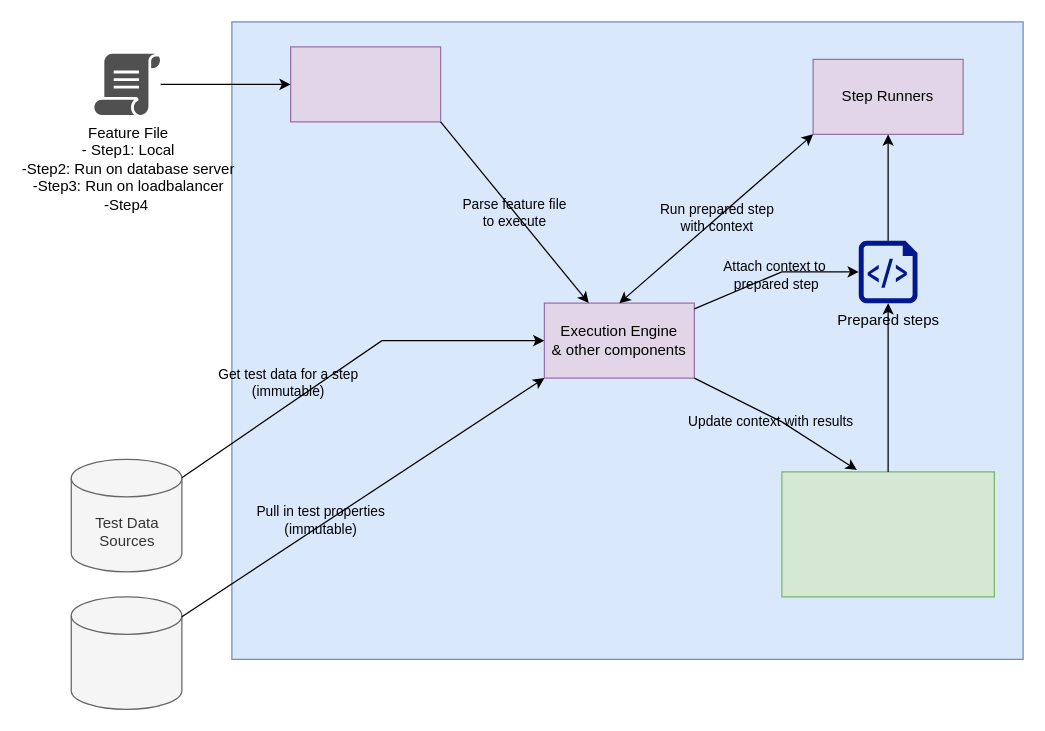
This 1045x731 diagram has some shape labels left out. Here are the shapes that lost their labels. From the top down, the centre of each, then its label:
At [365,84]: "Feature Parser".
At [887,534]: "Test Execution context (Scenario Level) - Variables/Results (mutable)".
At [126,652]: "Test Properties".
